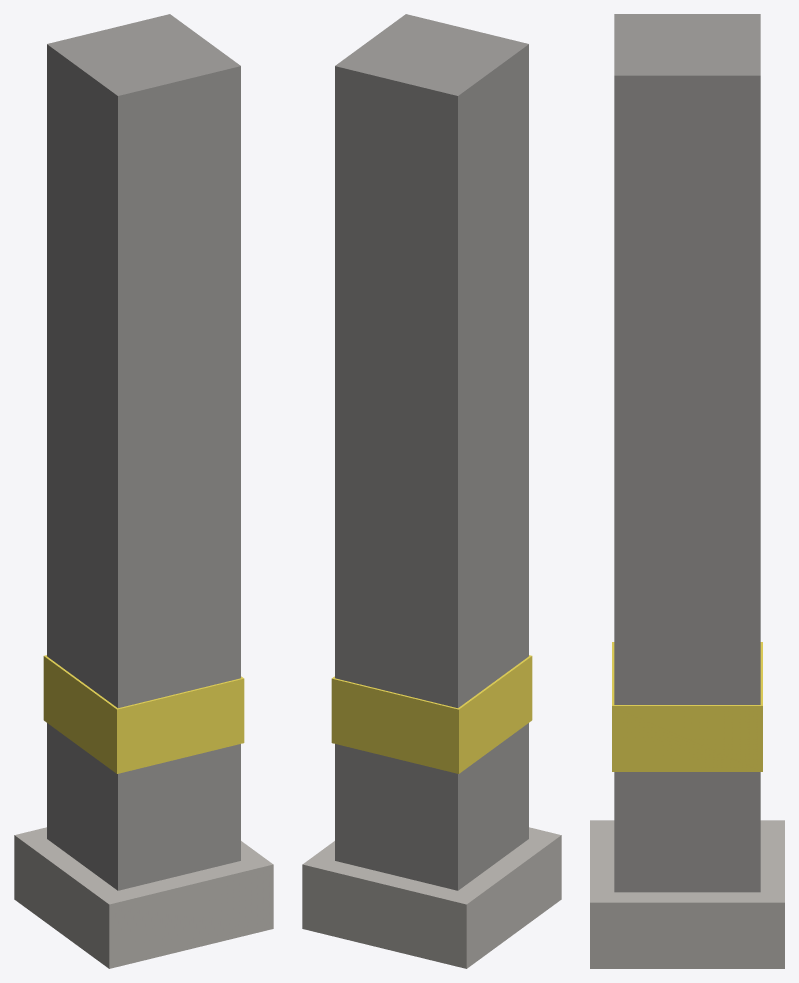
Rendered from pillar.glb.
The picture shows the model from 3 angles, left to right: view 1: azimuth 30°, elevation 25°; view 2: azimuth 150°, elevation 25°; view 3: azimuth 270°, elevation 25°; orthographic projection. The views are drawn at different scales.
Visible parts, largest first — view 1: pillar; view 2: pillar; view 3: pillar.
Boxes of the visible parts, x1=… form: pillar: x1=14, y1=14, x2=273, y2=968; pillar: x1=302, y1=14, x2=561, y2=968; pillar: x1=590, y1=14, x2=784, y2=968.
Size of what is drawn, in the model's own units: 0.8 by 4 by 0.8.
